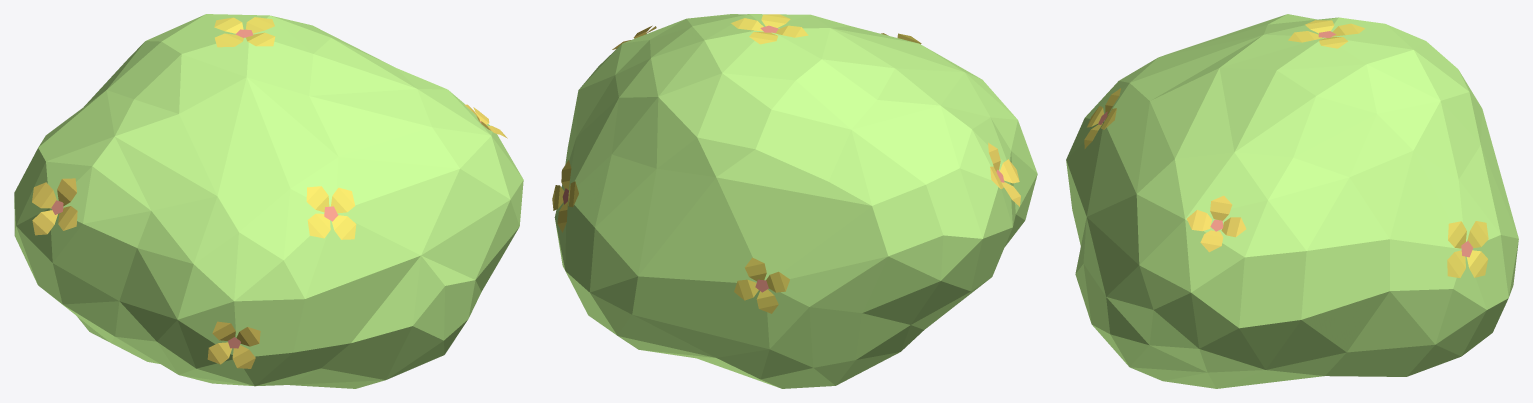
Rendered from FlowerBush_a_l_01.fbx.
3 renders of one model, left to right at view 1: azimuth 30°, elevation 25°; view 2: azimuth 150°, elevation 25°; view 3: azimuth 270°, elevation 25°, orthographic.
Parts seen in each view (by area): view 1: FlowerBush_a_l_01; view 2: FlowerBush_a_l_01; view 3: FlowerBush_a_l_01.
Boxes of the visible parts, bbox=[...] form: FlowerBush_a_l_01: bbox=[14, 14, 523, 388]; FlowerBush_a_l_01: bbox=[552, 14, 1037, 388]; FlowerBush_a_l_01: bbox=[1066, 14, 1518, 388].
Size of the model in its own units: 326 by 222 by 279.
